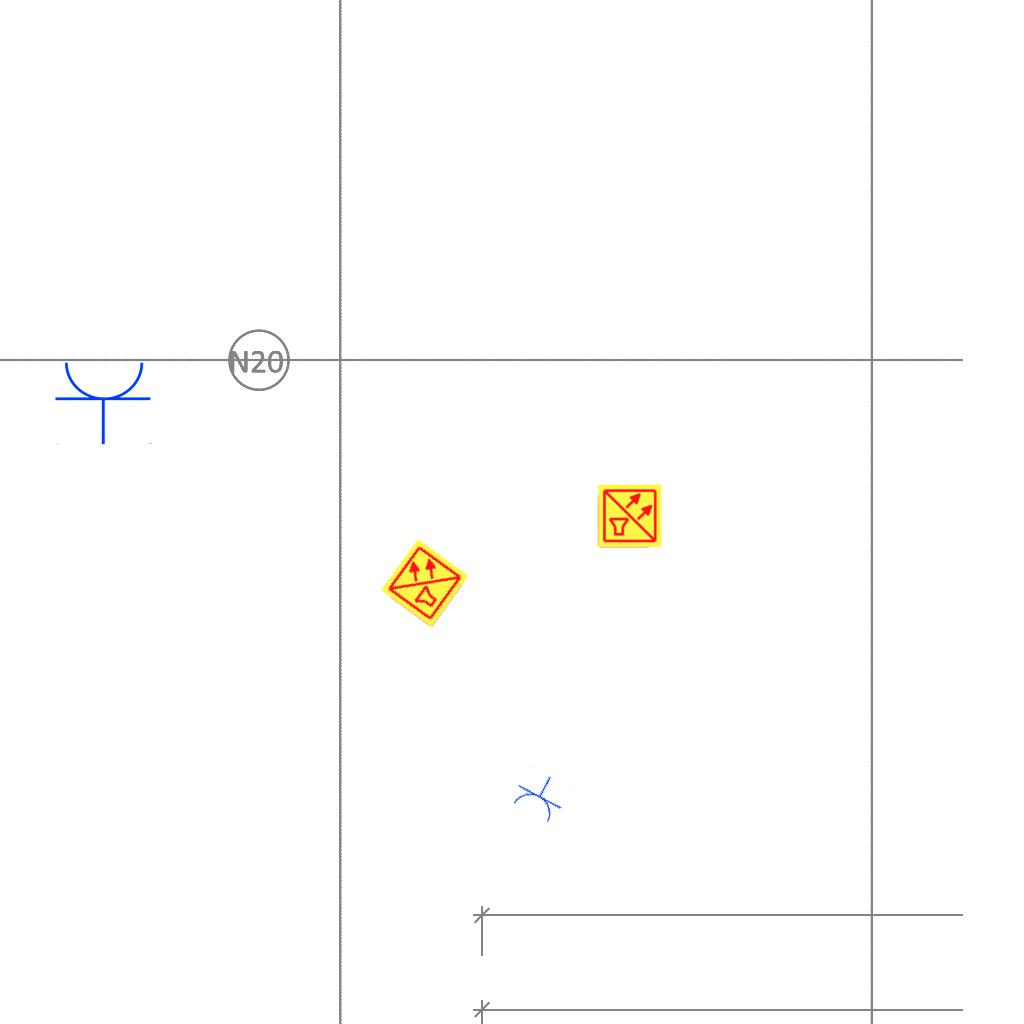OKW_Multisensormelder_(Kombination_optischer_Rauch-Kahlenmonoxid_Waerme-Melder): (378, 536, 472, 630), (597, 483, 663, 549)
Schukosteckdose_einfach: (54, 358, 154, 445), (507, 764, 573, 827)
